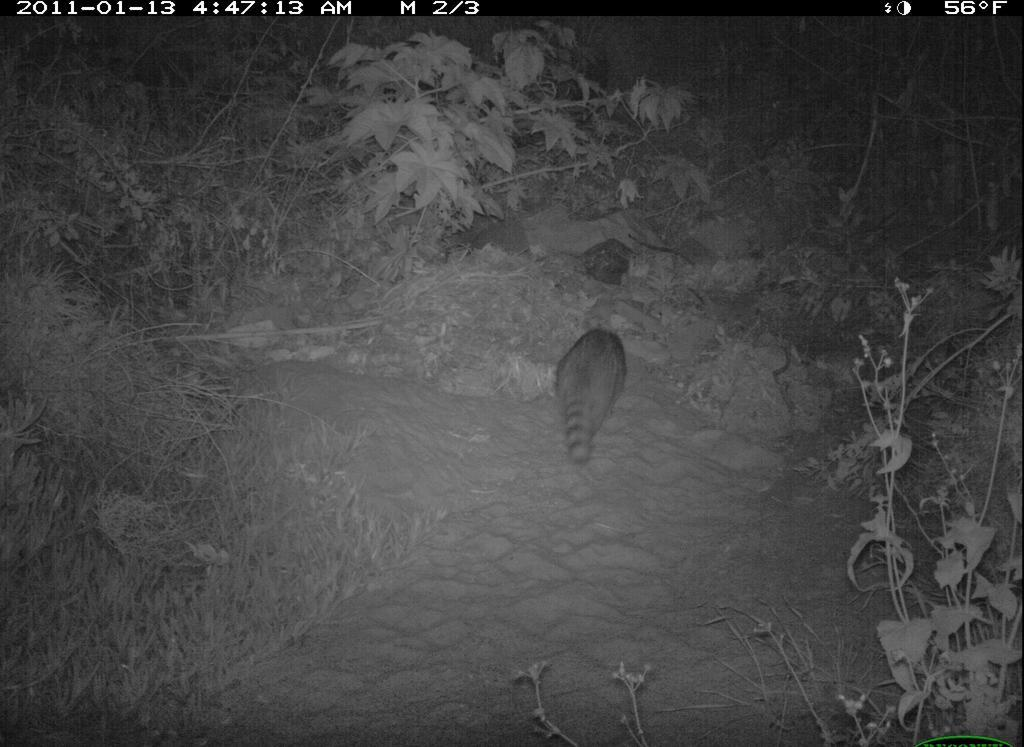raccoon: (546, 294, 641, 482)
